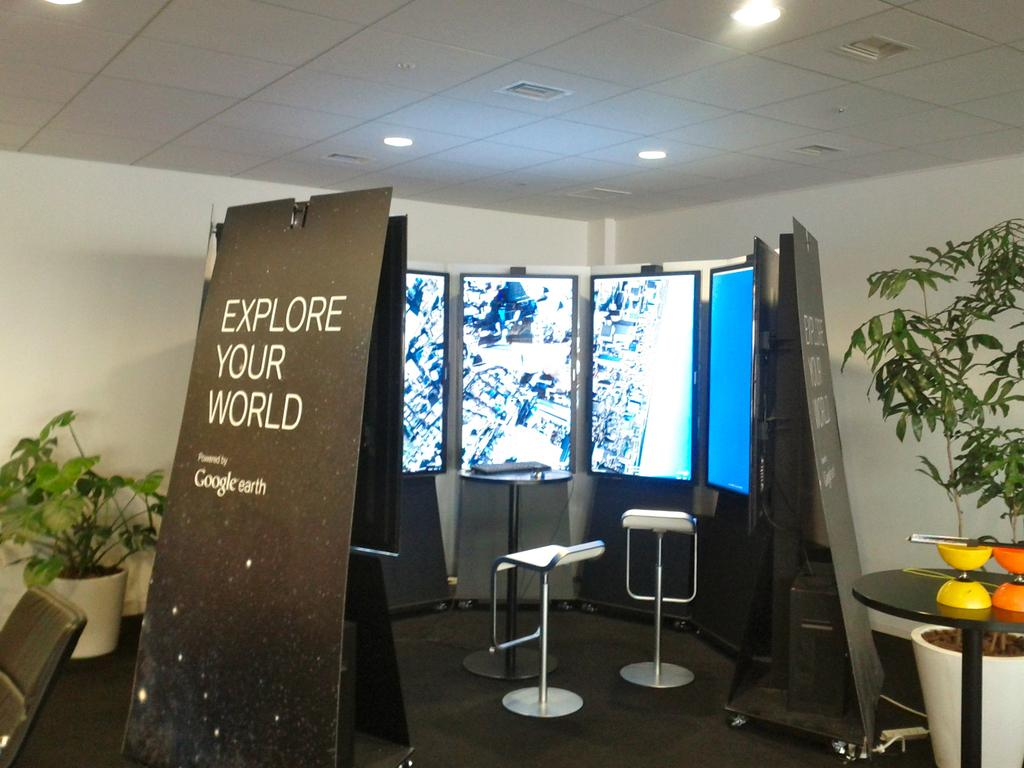Chair: (485, 540, 607, 718), (621, 507, 704, 689)
